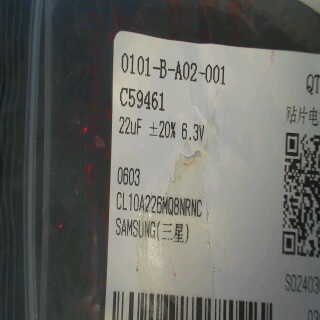22uF: (115, 114, 145, 140)
